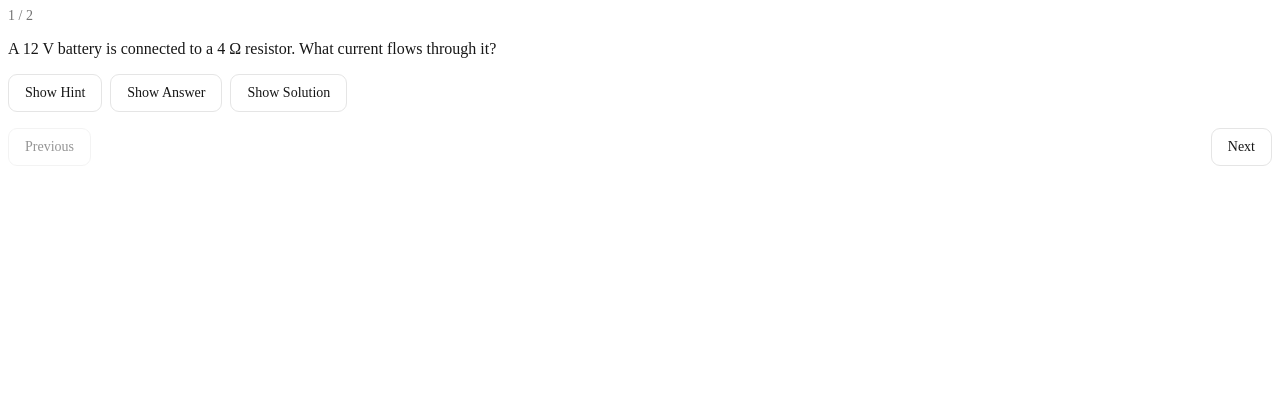
Test: PracticeProblems › hides revealed content when moving to another problem
The width and height of the screenshot is (1280, 410).
Click the button "Show Hint".
click(55, 93)  # box [8,74,102,112]
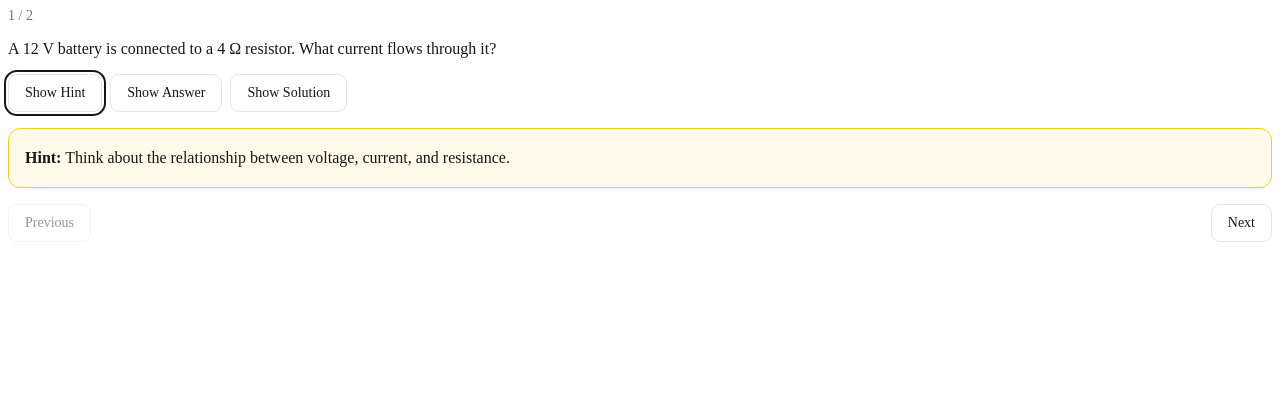
Click the button "Show Solution".
click(289, 93)  # box [230,74,347,112]
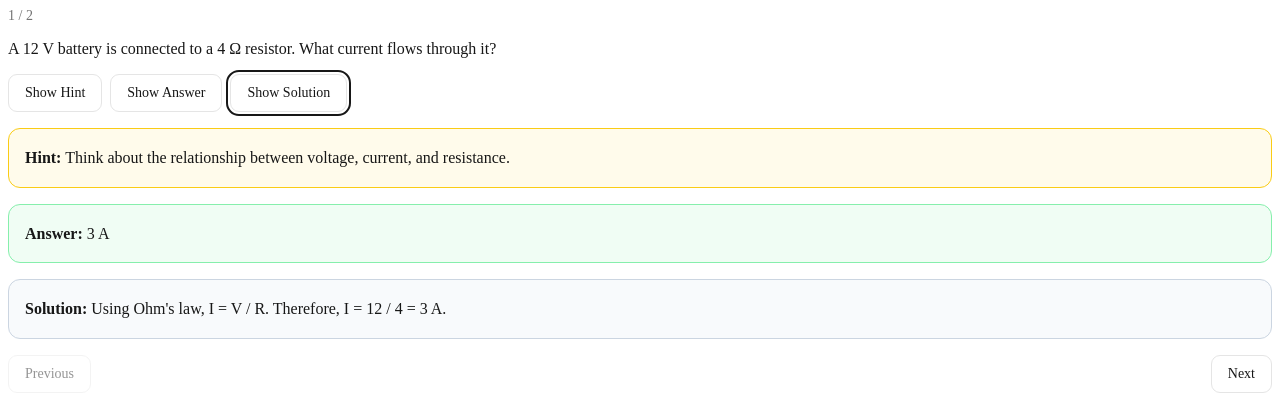
Result: the text "Think about the relationship between voltage, current, and resistance." is shown at [65,149,510,166]
Result: the text "3 A" is shown at [87,225,110,242]
Click the button "Next".
click(1241, 374)  # box [1211,355,1272,393]
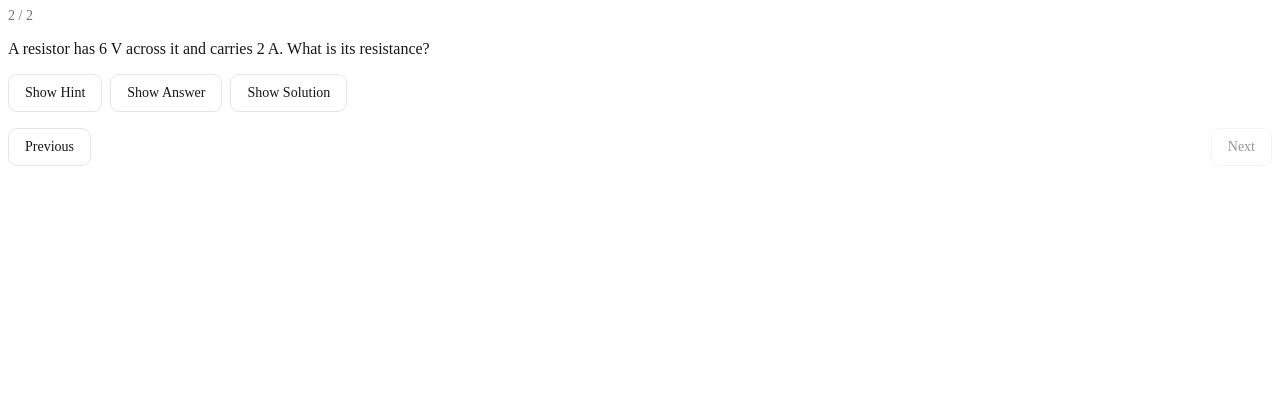
Result: the text "Think about the relationship between voltage, current, and resistance." is gone
